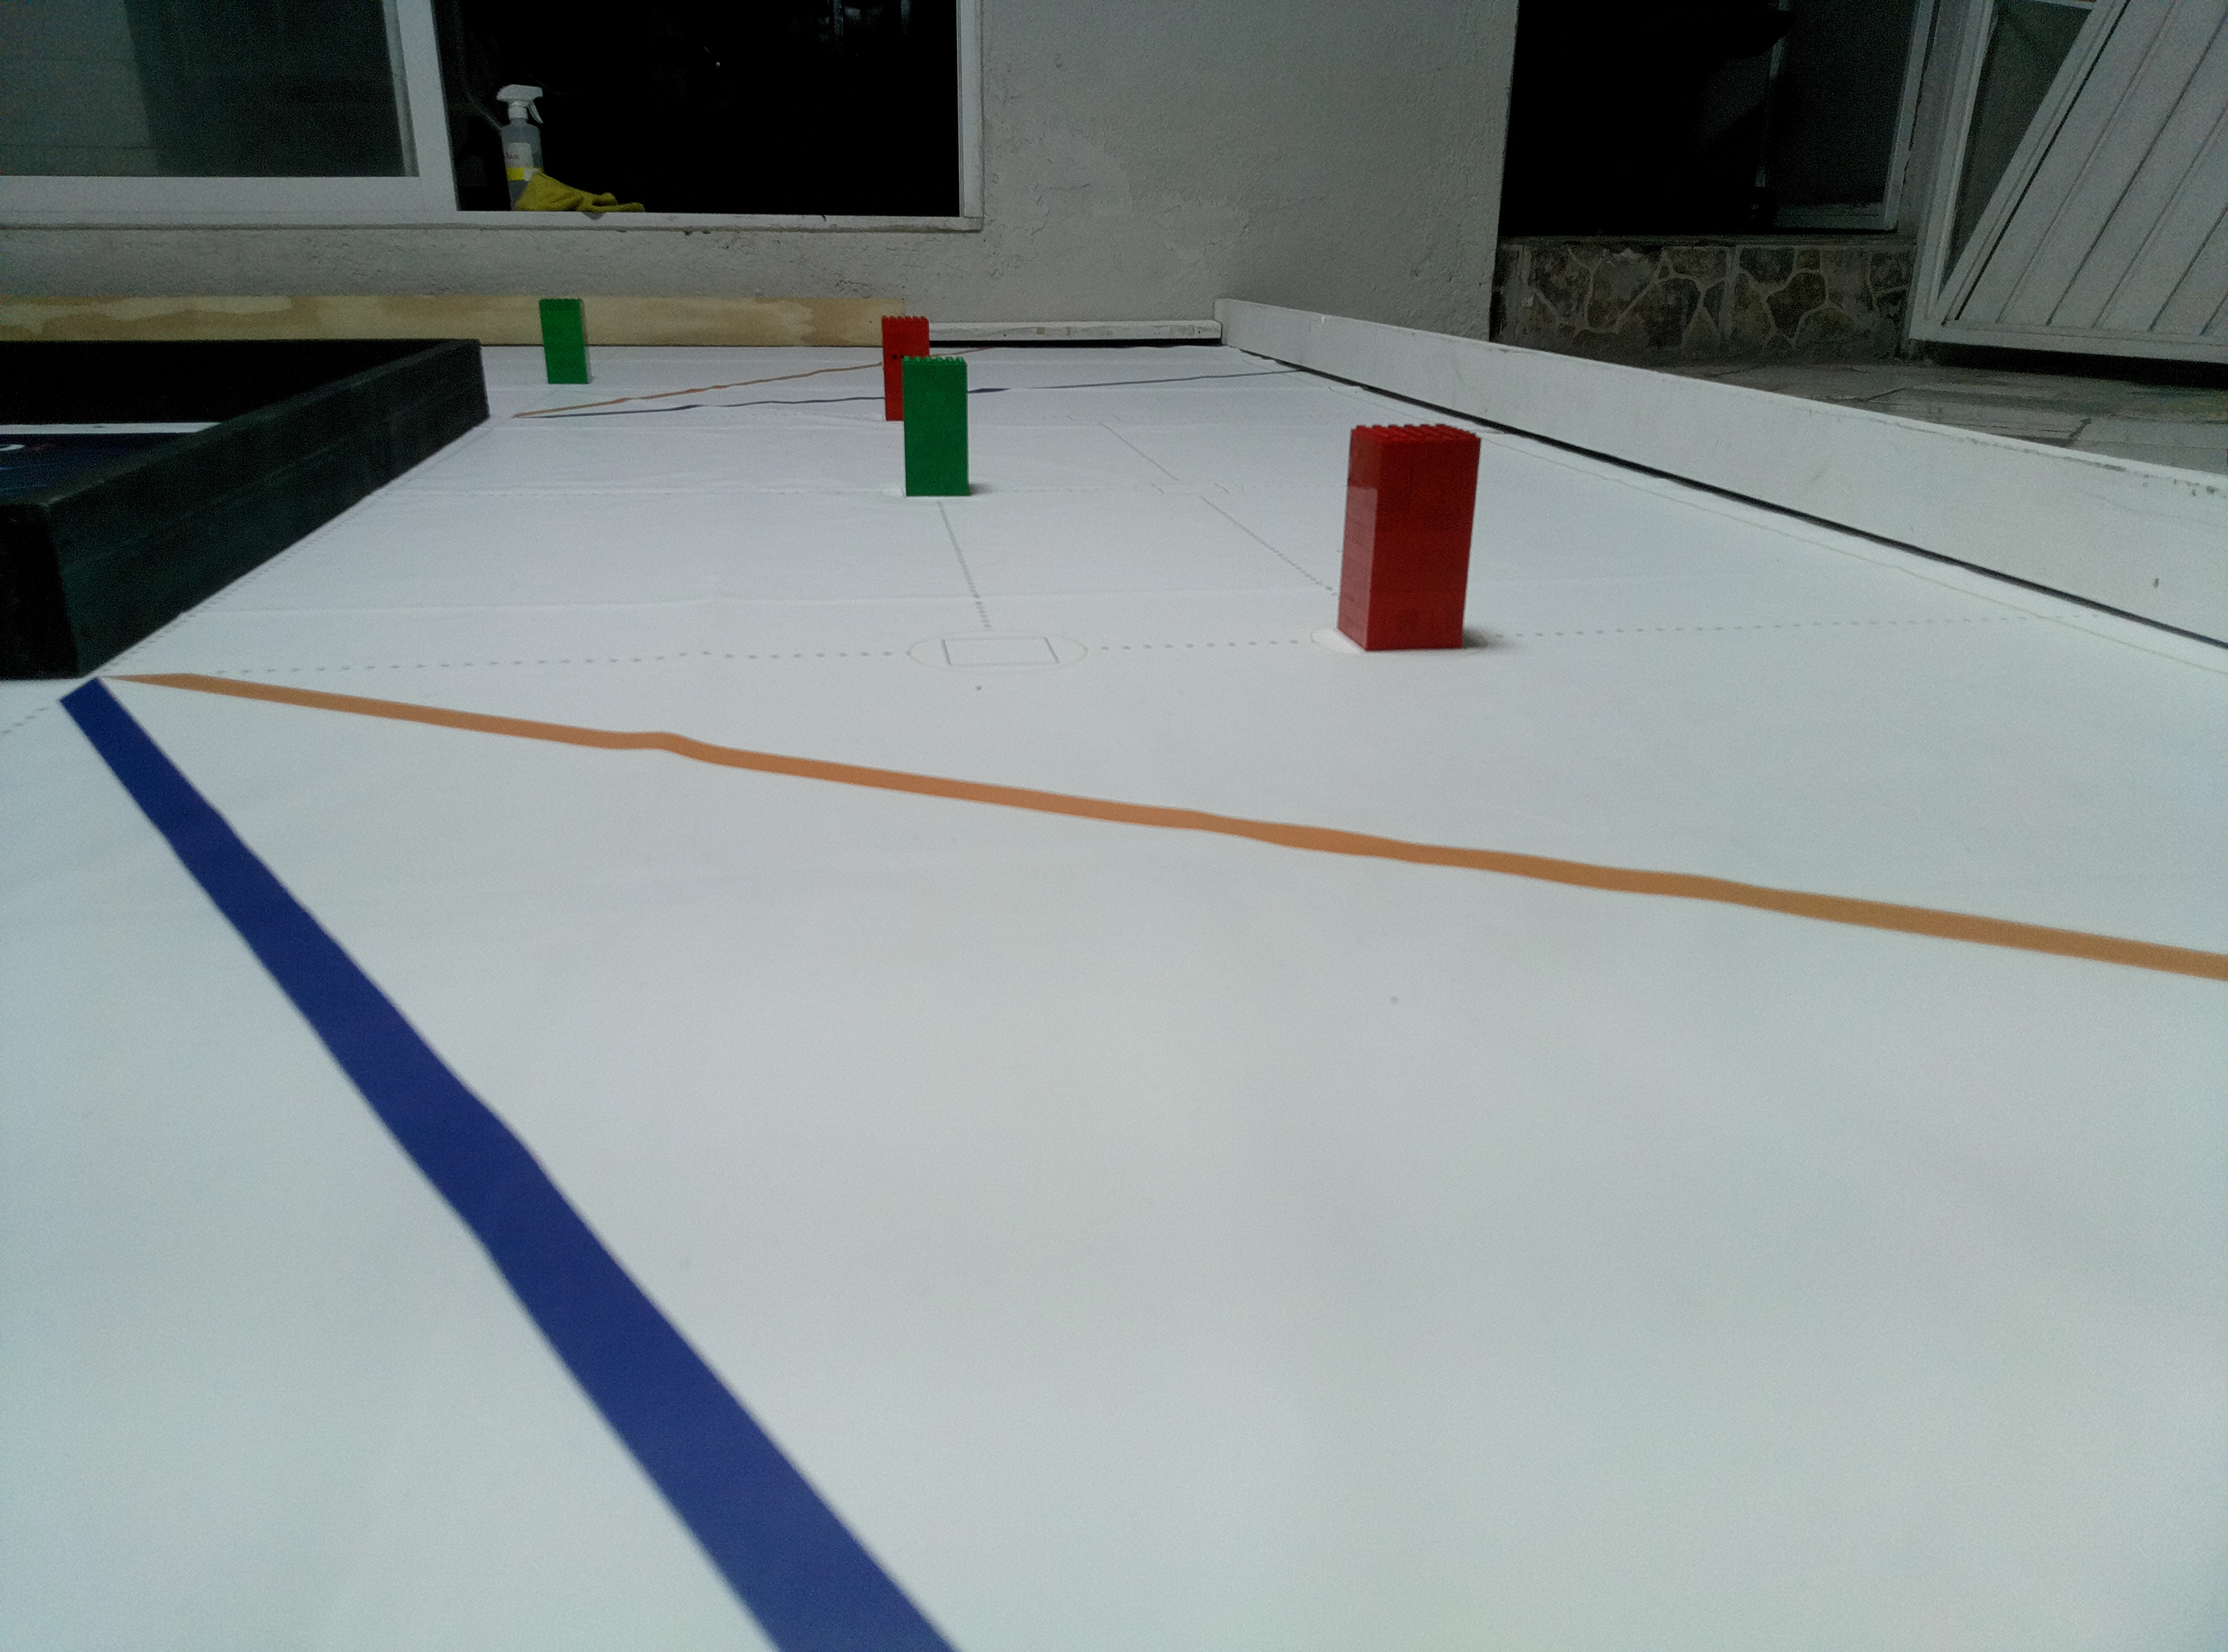greenbox: (902, 356, 975, 495), (538, 297, 593, 383)
redbox: (1331, 416, 1477, 651), (880, 309, 928, 420)
